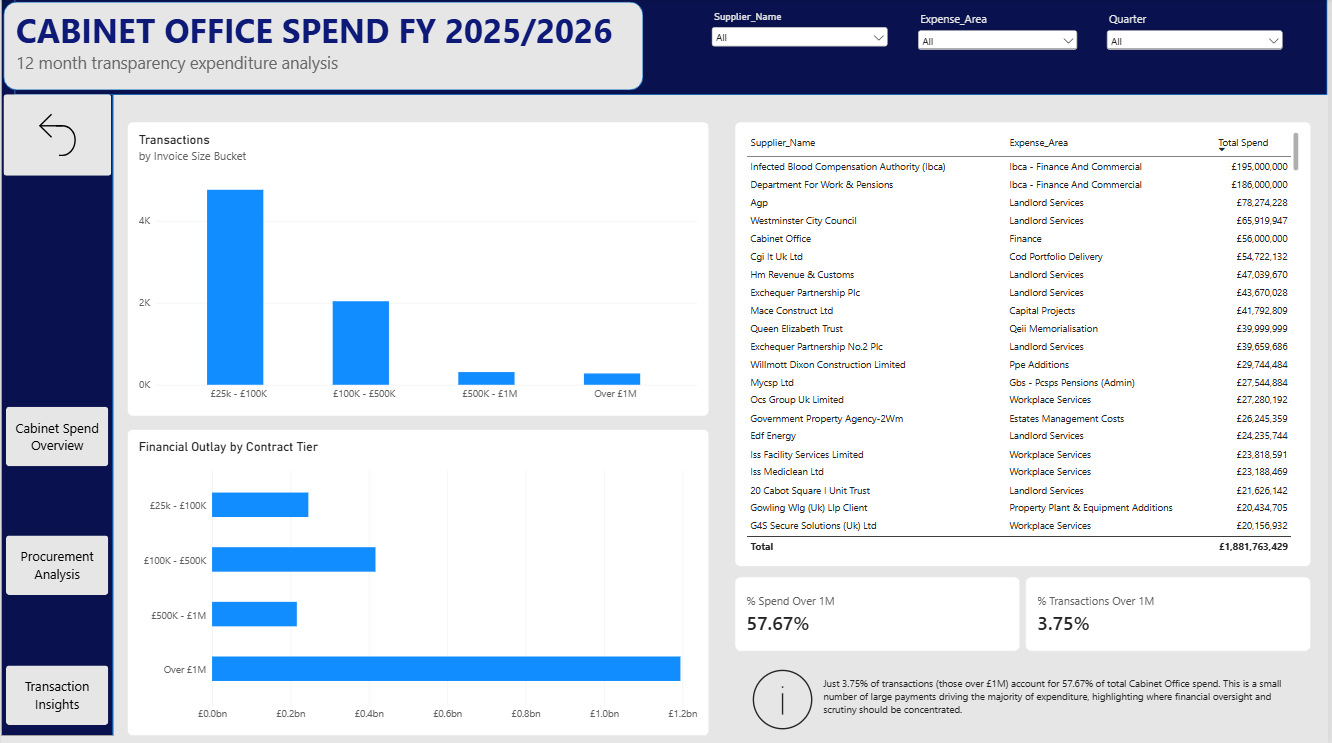

What the dashboard file says about the page in this screenshot:
{"tool":"powerbi","page":{"name":"Transaction Insights","canvas":[1920,1080],"ordinal":2},"visuals":[{"type":"shape","title":"Side Navigation","box":[0,0,162,1068],"z":0},{"type":"shape","title":"Top Bar","box":[20,0,1900,140],"z":1000},{"type":"slicer","fields":{"Values":["Dim_Supplier.Supplier_Name"]},"box":[1024,18,264,84],"z":2000},{"type":"slicer","fields":{"Values":["Dim_Category.Expense_Area"]},"box":[1322,18,240,84],"z":3000},{"type":"slicer","fields":{"Values":["Dim_Date.Quarter"]},"box":[1596,18,264,84],"z":4000},{"type":"clusteredColumnChart","fields":{"Category":["Fact_Spend.Invoice Size Bucket"],"Y":["_Measures.Transactions"]},"box":[182,180,842,426],"z":5000},{"type":"tableEx","fields":{"Values":["Dim_Supplier.Supplier_Name","Dim_Category.Expense_Area","_Measures.Total Spend"]},"box":[1062,180,834,644],"z":6000},{"type":"clusteredBarChart","title":"Financial Outlay by Contract Tier","fields":{"Category":["Fact_Spend.Invoice Size Bucket"],"Y":["_Measures.Total Spend"]},"box":[182,624,842,444],"z":7000},{"type":"actionButton","box":[1062,954,834,114],"z":8000},{"type":"cardVisual","fields":{"Data":["_Measures.% Spend Over 1M","_Measures.% Transactions Over 1M"]},"box":[1062,838,834,108],"z":9000},{"type":"actionButton","box":[8,592,148,86],"z":10000},{"type":"actionButton","box":[8,966,148,86],"z":11000},{"type":"actionButton","box":[8,779,148,86],"z":12000},{"type":"actionButton","box":[4,140,156,118],"z":13000},{"type":"shape","box":[4,6,926,128],"z":13001},{"type":"textbox","box":[22,12,910,120],"z":13002}]}

Visuals, with their boxes in screenshot pixels (x1, y1, x2, y2), scaled from the page's 1920x1080 canvas onto the 1332x743 screenshot:
"Side Navigation" shape: left=0, top=0, right=112, bottom=735
"Top Bar" shape: left=14, top=0, right=1331, bottom=96
slicer - Dim_Supplier.Supplier_Name: left=710, top=12, right=894, bottom=70
slicer - Dim_Category.Expense_Area: left=917, top=12, right=1084, bottom=70
slicer - Dim_Date.Quarter: left=1107, top=12, right=1290, bottom=70
clusteredColumnChart - Fact_Spend.Invoice Size Bucket x _Measures.Transactions: left=126, top=124, right=710, bottom=417
tableEx - Dim_Supplier.Supplier_Name x Dim_Category.Expense_Area: left=737, top=124, right=1315, bottom=567
"Financial Outlay by Contract Tier" clusteredBarChart: left=126, top=429, right=710, bottom=735
actionButton: left=737, top=656, right=1315, bottom=735
cardVisual - _Measures.% Spend Over 1M x _Measures.% Transactions Over 1M: left=737, top=577, right=1315, bottom=651
actionButton: left=6, top=407, right=108, bottom=466
actionButton: left=6, top=665, right=108, bottom=724
actionButton: left=6, top=536, right=108, bottom=595
actionButton: left=3, top=96, right=111, bottom=177
shape: left=3, top=4, right=645, bottom=92
textbox: left=15, top=8, right=647, bottom=91
